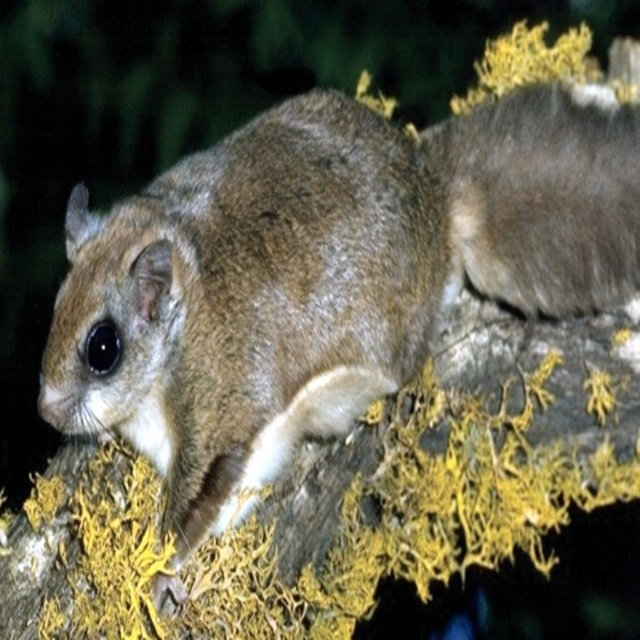Squirrel: (37, 84, 640, 610)
